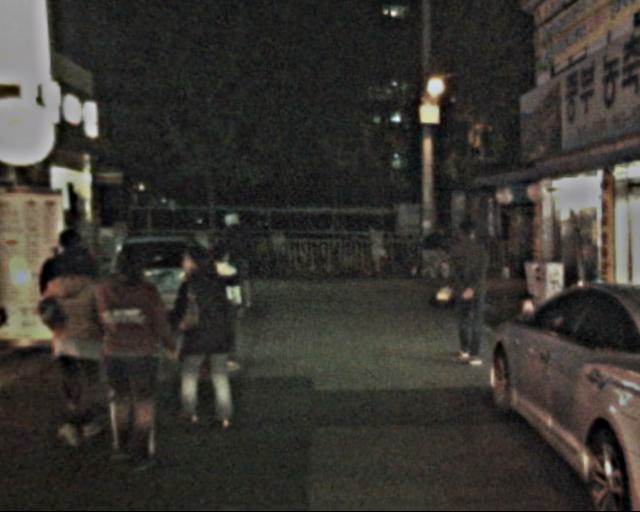person: (85, 238, 171, 475), (34, 236, 112, 442), (160, 237, 237, 435), (444, 213, 499, 369), (195, 240, 251, 373)
